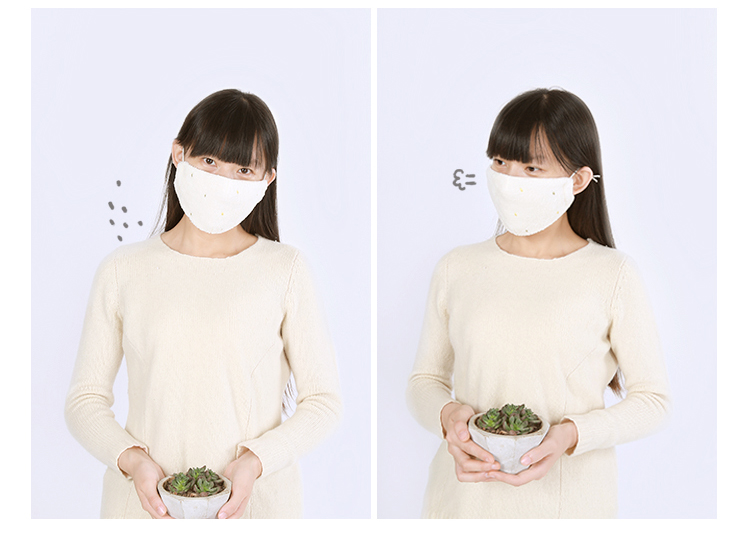face_mask: (185, 119, 268, 234), (489, 133, 559, 235)
